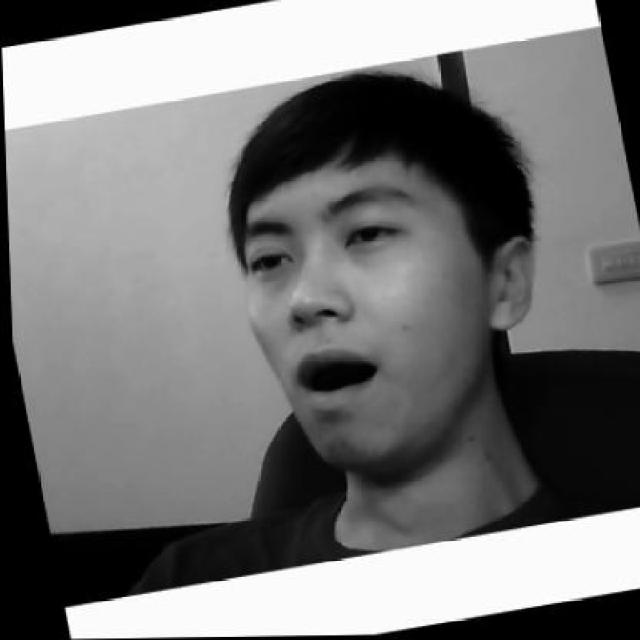inattentif: (202, 44, 566, 484)
